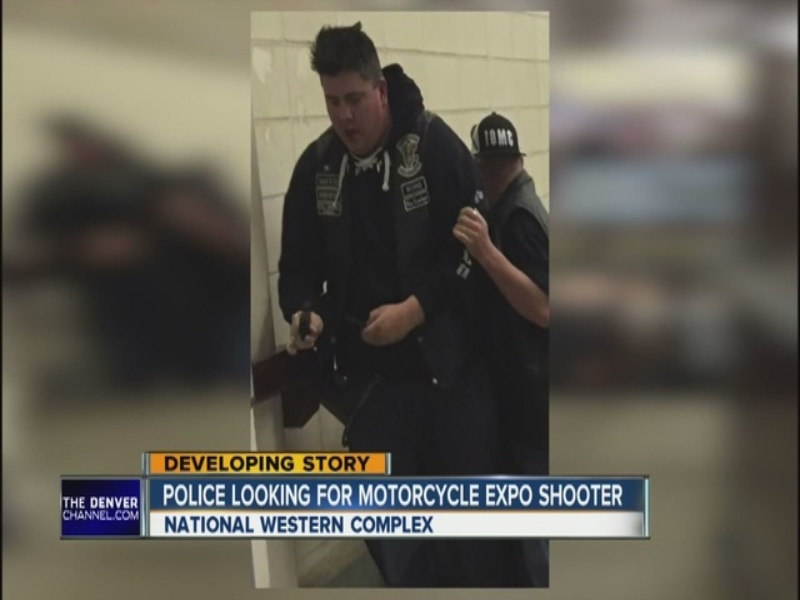gun: (283, 300, 323, 350)
